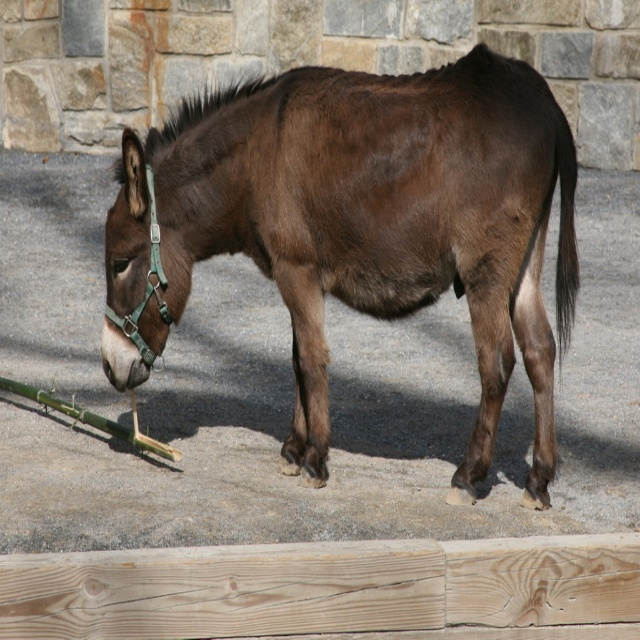Mule: (100, 38, 583, 513)
